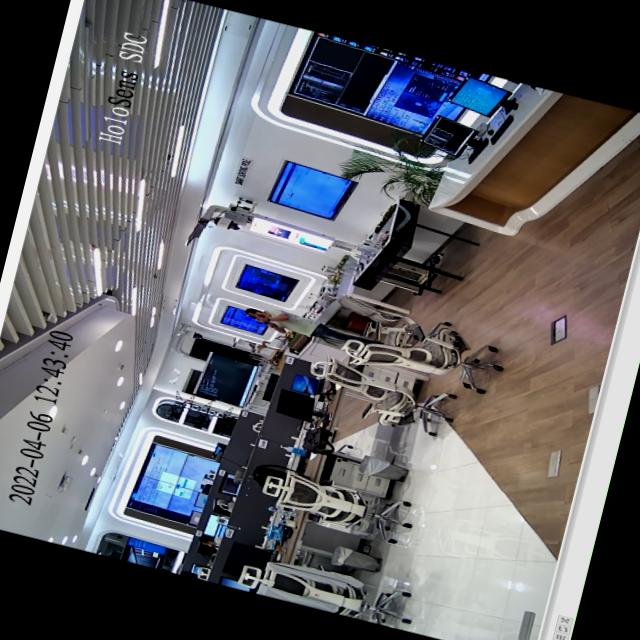long weapon: (238, 306, 282, 332)
